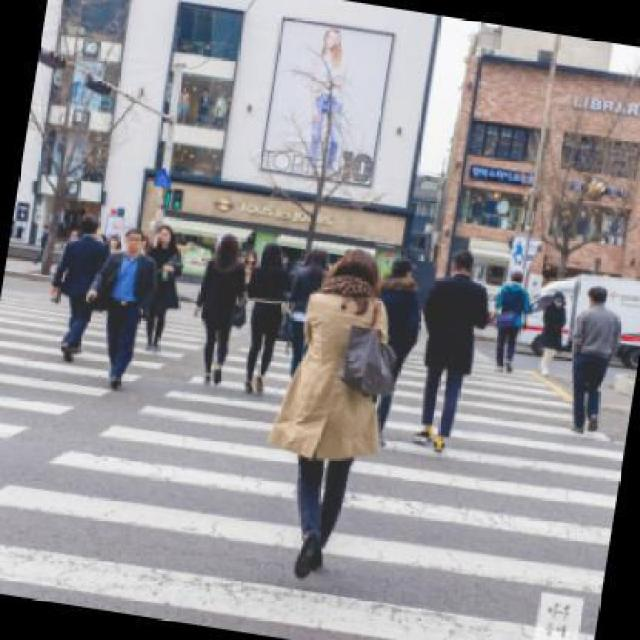Person: (264, 242, 402, 584), (404, 244, 498, 458), (83, 224, 160, 390), (181, 228, 256, 386), (44, 210, 116, 364), (231, 238, 295, 400), (562, 283, 626, 435), (134, 224, 186, 353), (486, 267, 534, 376), (531, 287, 571, 381)
